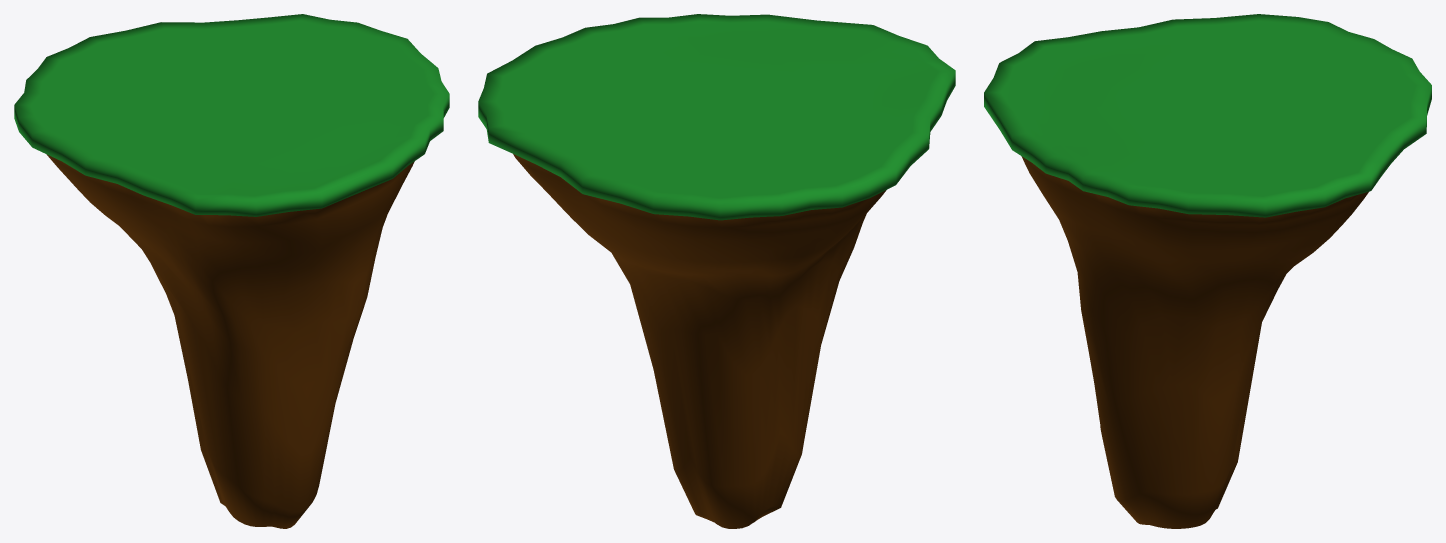
Rendered from Island_2.fbx.
3 views of the same model, side by side, from view 1: azimuth 30°, elevation 25°; view 2: azimuth 150°, elevation 25°; view 3: azimuth 270°, elevation 25° (orthographic). The views are drawn at different scales.
Parts seen in each view (by area): view 1: Island_1.001; view 2: Island_1.001; view 3: Island_1.001.
Part boxes in pixels (x1=…): Island_1.001: x1=14, y1=14, x2=449, y2=528; Island_1.001: x1=478, y1=14, x2=955, y2=528; Island_1.001: x1=984, y1=14, x2=1431, y2=528.
Size of the model in its own units: 145 by 147 by 145.
